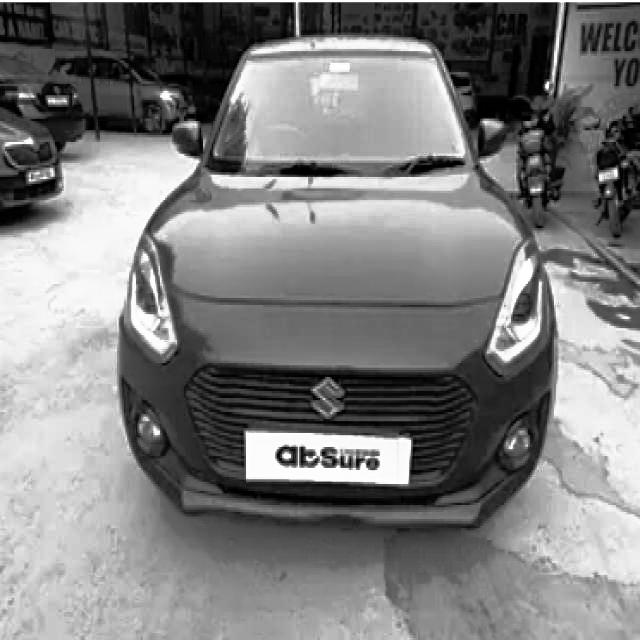Car: (114, 32, 558, 550)
